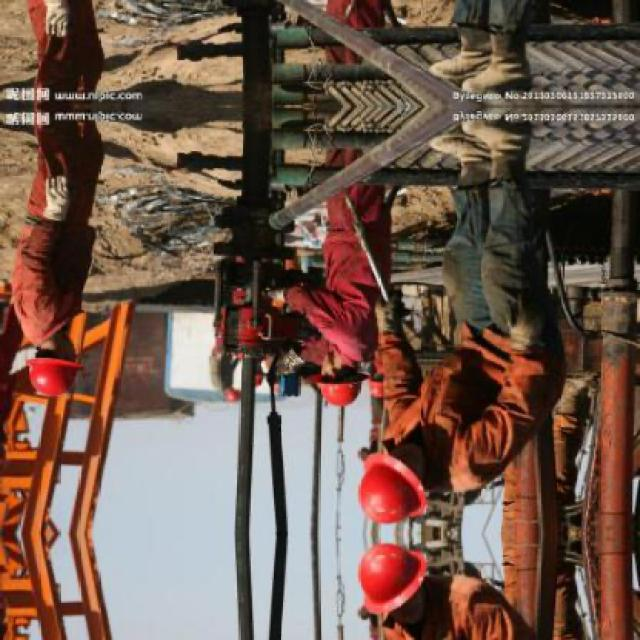con casco: (293, 296, 414, 418), (0, 293, 92, 415), (332, 416, 446, 508)
